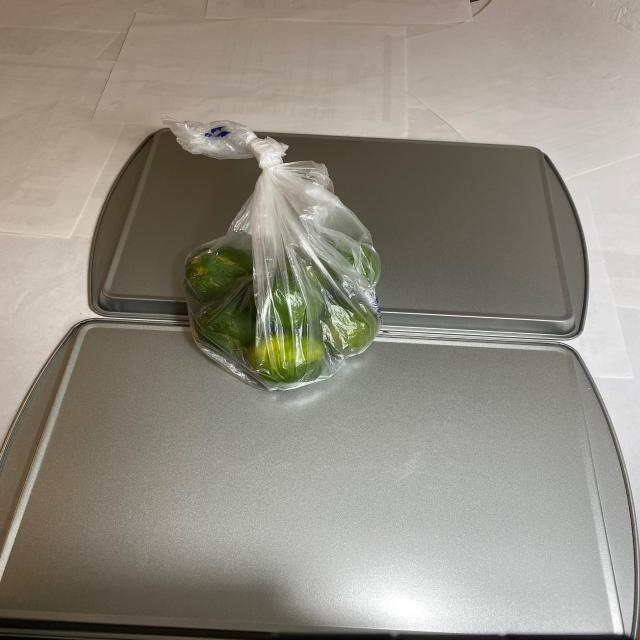lemon: (178, 223, 388, 396)
